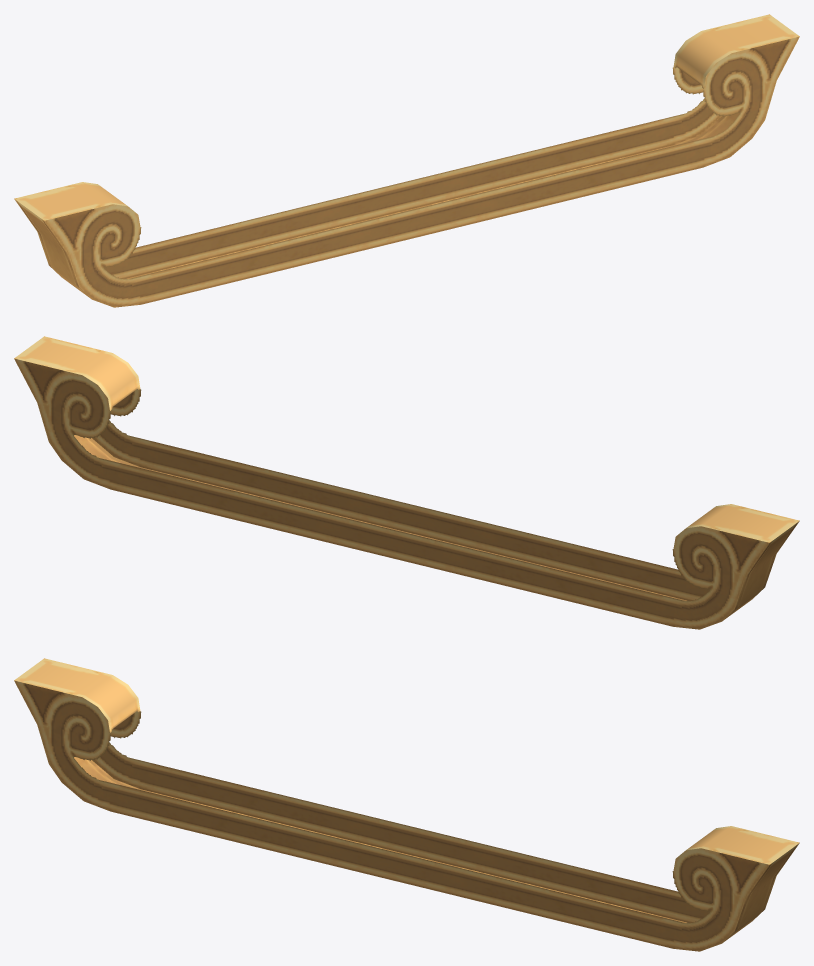
The model's file is mod_zlc_jianzhu053_3_xy.FBX.
3 renders of one model, top to bottom at view 1: azimuth 30°, elevation 25°; view 2: azimuth 150°, elevation 25°; view 3: azimuth 330°, elevation 25°, orthographic.
Visible parts, largest first — view 1: mod_zlc_jianzhu053_3_xy; view 2: mod_zlc_jianzhu053_3_xy; view 3: mod_zlc_jianzhu053_3_xy.
Boxes of the visible parts, left/top/right/bottom form: mod_zlc_jianzhu053_3_xy: left=14, top=14, right=799, bottom=307; mod_zlc_jianzhu053_3_xy: left=14, top=336, right=799, bottom=629; mod_zlc_jianzhu053_3_xy: left=14, top=658, right=799, bottom=951.
Size of the model in its own units: 11.81 by 1.6 by 0.822.
Materials: 1 (1 with a texture image).
